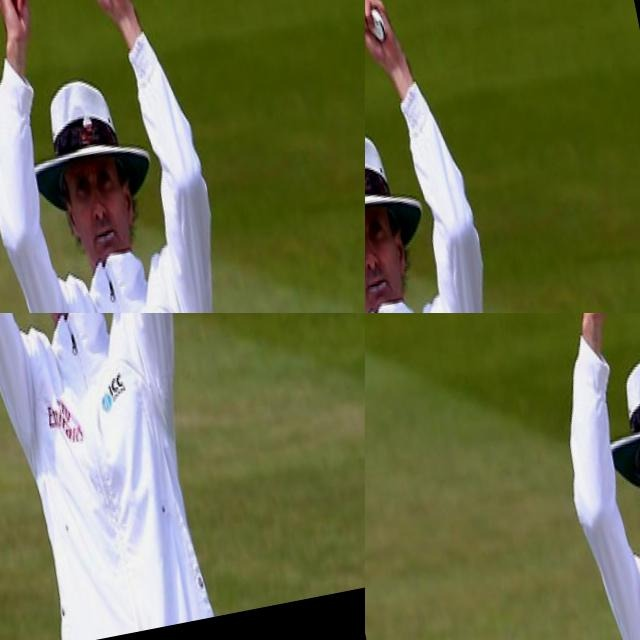No_Ball: (0, 0, 365, 313), (365, 0, 640, 313)
Out: (476, 313, 640, 640)
Six: (0, 313, 252, 640)
